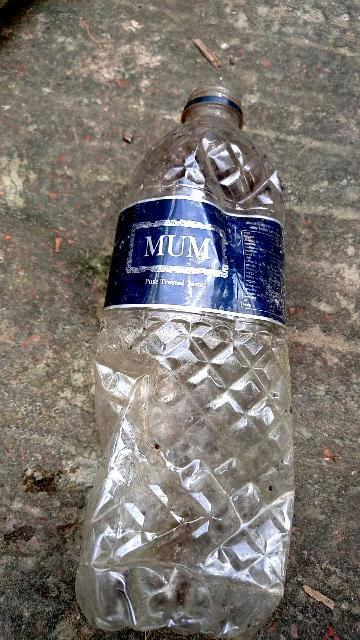bottle: (95, 129, 305, 640)
